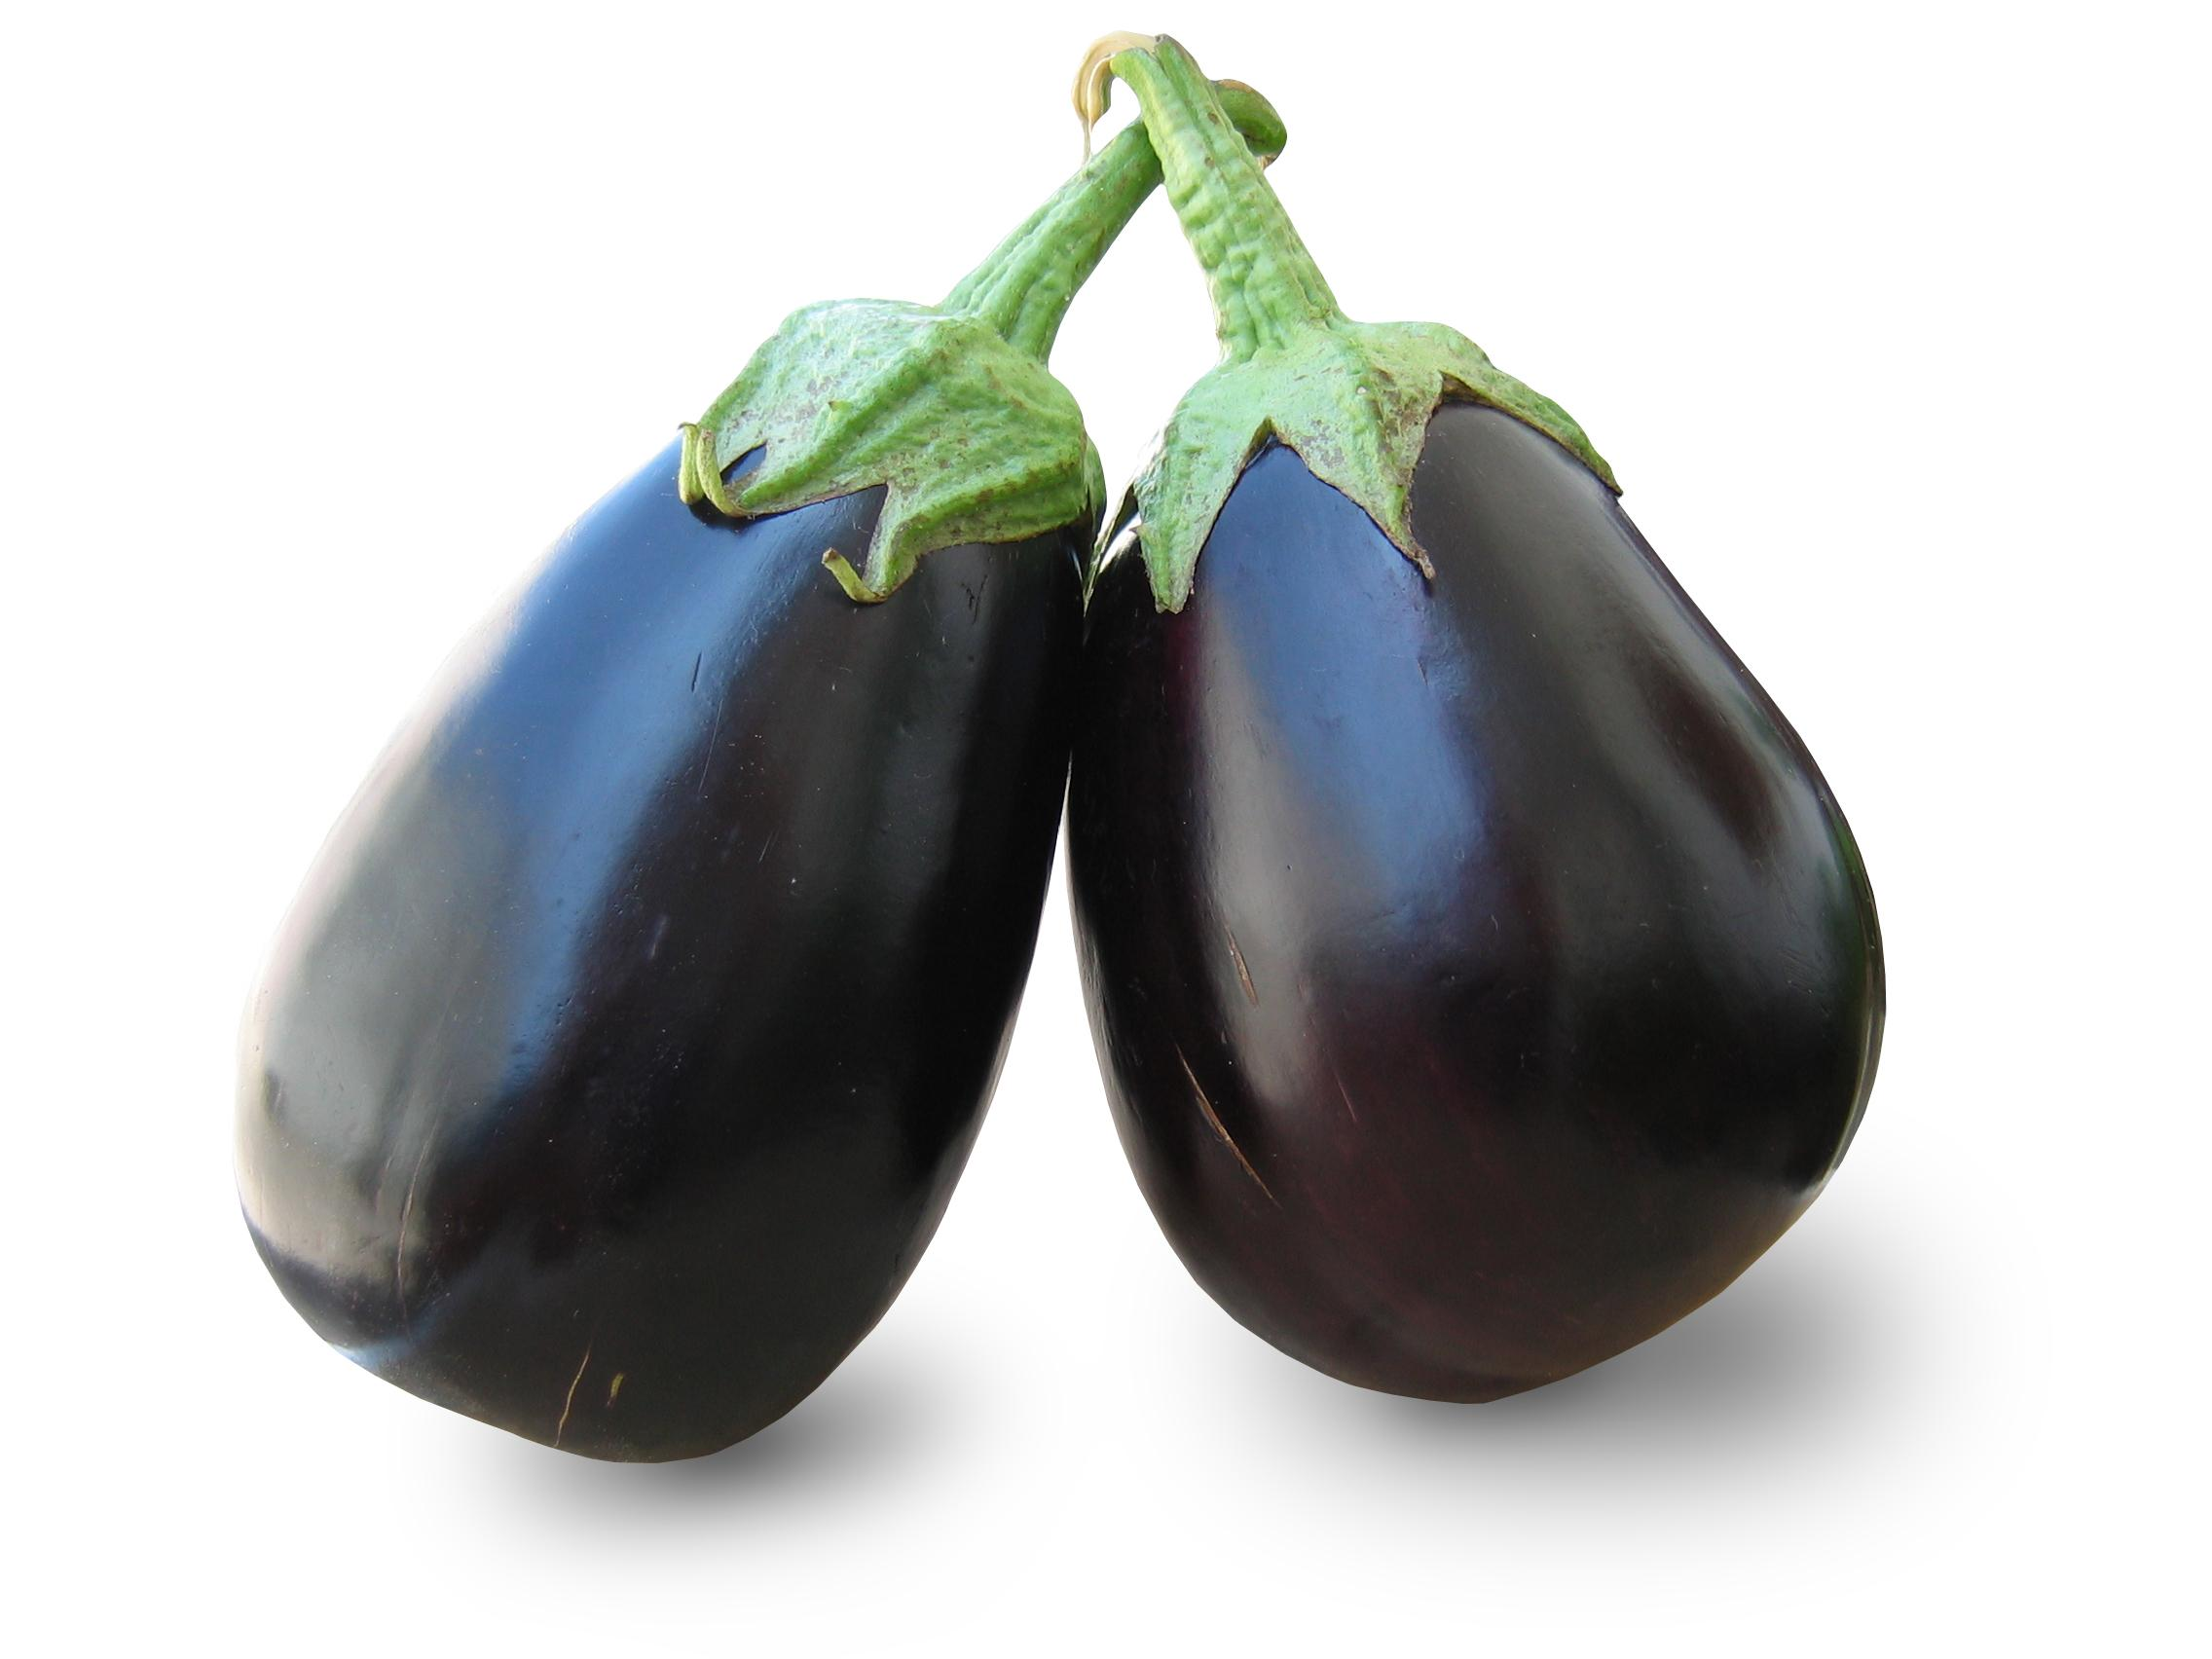eggplant: (228, 31, 1282, 1464), (1061, 28, 1888, 1406)
